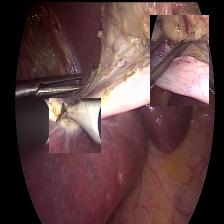Grasper: (149, 14, 208, 104), (26, 61, 92, 99)
Hook: (48, 97, 99, 151)
